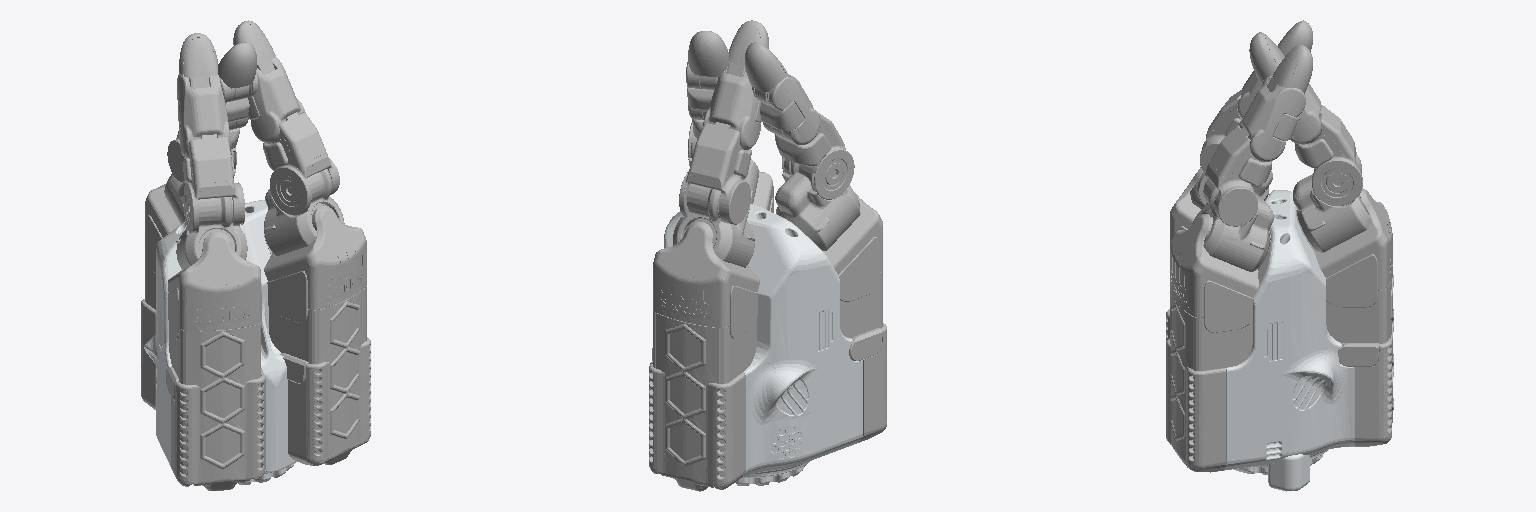
--- Render facts (derived) ---
Views: 3 orthographic renders of the robot side by side, from view 1: azimuth 30°, elevation 25°; view 2: azimuth 150°, elevation 25°; view 3: azimuth 270°, elevation 25°.
Model e3_r3_hand with 26 links and 25 joints (15 revolute, 3 prismatic, 7 fixed), rooted at world, posed all joints at 0.
Links seen in each view (by area): view 1: F2_base, F1_base, hand_base, F1_proximal, F2_proximal, F0_base, F1_J0_link, F2_middle, F1_middle, F2_J0_link, F2_distal, F0_distal (+4 smaller); view 2: hand_base, F0_base, F2_base, F0_proximal, F2_J0_link, F2_proximal, F0_J0_link, F2_middle, F0_middle, F1_distal, F2_distal, F0_distal (+2 smaller); view 3: hand_base, F1_base, F0_base, F1_proximal, F0_J0_link, F0_proximal, F1_middle, F1_J0_link, F1_distal, F2_proximal, F0_middle, F0_distal (+3 smaller).
Link boxes in pixels (left/top/right/bottom): F2_base: left=166, top=232, right=265, bottom=490; F1_base: left=264, top=205, right=370, bottom=465; hand_base: left=144, top=200, right=296, bottom=484; F1_proximal: left=263, top=112, right=339, bottom=215; F2_proximal: left=183, top=134, right=244, bottom=233; F0_base: left=141, top=183, right=180, bottom=409; F1_J0_link: left=264, top=169, right=344, bottom=256; F2_middle: left=177, top=74, right=231, bottom=157; F1_middle: left=248, top=56, right=305, bottom=143; F2_J0_link: left=176, top=197, right=247, bottom=270; F2_distal: left=179, top=33, right=217, bottom=88; F0_distal: left=218, top=42, right=256, bottom=100; hand_base: left=652, top=204, right=862, bottom=485; F0_base: left=649, top=222, right=759, bottom=491; F2_base: left=823, top=185, right=886, bottom=442; F0_proximal: left=679, top=122, right=751, bottom=224; F2_J0_link: left=775, top=161, right=859, bottom=250; F2_proximal: left=771, top=112, right=854, bottom=199; F0_J0_link: left=673, top=184, right=754, bottom=267; F2_middle: left=752, top=74, right=819, bottom=144; F0_middle: left=703, top=70, right=761, bottom=149; F1_distal: left=688, top=31, right=728, bottom=89; F2_distal: left=745, top=42, right=789, bottom=105; F0_distal: left=726, top=20, right=768, bottom=76; hand_base: left=1223, top=190, right=1354, bottom=491; F1_base: left=1166, top=214, right=1270, bottom=472; F0_base: left=1296, top=189, right=1393, bottom=446; F1_proximal: left=1197, top=125, right=1271, bottom=226; F0_J0_link: left=1293, top=154, right=1370, bottom=252; F0_proximal: left=1295, top=105, right=1362, bottom=205; F1_middle: left=1239, top=77, right=1305, bottom=161; F1_J0_link: left=1192, top=178, right=1273, bottom=271; F1_distal: left=1267, top=44, right=1312, bottom=93; F2_proximal: left=1200, top=90, right=1241, bottom=171; F0_middle: left=1262, top=75, right=1321, bottom=144; F0_distal: left=1249, top=32, right=1284, bottom=83.
Size in the robot's own frame: 0.1599 by 0.1653 by 0.3405 metres.
16 mesh visuals loaded from 6 distinct referenced files (6 Collada DAE).

URDF robot description (e3_r3_hand):
<?xml version="1.0" ?>
<!-- =================================================================================== -->
<!-- |    This document was autogenerated by xacro from ./dx_system/dx_launch/description/0x02000105.urdf.xacro | -->
<!-- |    EDITING THIS FILE BY HAND IS NOT RECOMMENDED                                 | -->
<!-- =================================================================================== -->
<!--
 Software License Agreement (BSD License)
 Copyright © 2024-2025 belongs to Shadow Robot Company Ltd.
 All rights reserved.
 Redistribution and use in source and binary forms, with or without modification,
 are permitted provided that the following conditions are met:
   1. Redistributions of source code must retain the above copyright notice,
      this list of conditions and the following disclaimer.
   2. Redistributions in binary form must reproduce the above copyright notice,
      this list of conditions and the following disclaimer in the documentation
      and/or other materials provided with the distribution.
   3. Neither the name of Shadow Robot Company Ltd nor the names of its contributors
      may be used to endorse or promote products derived from this software without
      specific prior written permission.
 This software is provided by Shadow Robot Company Ltd "as is" and any express
 or implied warranties, including, but not limited to, the implied warranties of
 merchantability and fitness for a particular purpose are disclaimed. In no event
 shall the copyright holder be liable for any direct, indirect, incidental, special,
 exemplary, or consequential damages (including, but not limited to, procurement of
 substitute goods or services; loss of use, data, or profits; or business interruption)
 however caused and on any theory of liability, whether in contract, strict liability,
 or tort (including negligence or otherwise) arising in any way out of the use of this
 software, even if advised of the possibility of such damage.
-->
<robot name="e3_r3_hand">

  <link name="world"/>
    <!-- Six virtual links (massless, no geometry) -->
  <link name="link_1">
    <inertial>
      <mass value="0.0"/>
      <inertia ixx="0" ixy="0" ixz="0" iyy="0" iyz="0" izz="0"/>
    </inertial>
  </link>
  <link name="link_2">
    <inertial>
      <mass value="0.0"/>
      <inertia ixx="0" ixy="0" ixz="0" iyy="0" iyz="0" izz="0"/>
    </inertial>
  </link>
  <link name="link_3">
    <inertial>
      <mass value="0.0"/>
      <inertia ixx="0" ixy="0" ixz="0" iyy="0" iyz="0" izz="0"/>
    </inertial>
  </link>
  <link name="link_4">
    <inertial>
      <mass value="0.0"/>
      <inertia ixx="0" ixy="0" ixz="0" iyy="0" iyz="0" izz="0"/>
    </inertial>
  </link>
  <link name="link_5">
    <inertial>
      <mass value="0.0"/>
      <inertia ixx="0" ixy="0" ixz="0" iyy="0" iyz="0" izz="0"/>
    </inertial>
  </link>

  <!-- Joints (alternating prismatic and revolute) -->
  <joint name="joint_1_prismatic_z" type="prismatic">
    <parent link="world"/>
    <child  link="link_1"/>
    <origin xyz="0 0 0" rpy="0 0 0"/>
    <axis xyz="0 0 1"/>
    <limit lower="-0.2" upper="0.2" effort="10" velocity="0.5"/>
  </joint>

  <joint name="joint_2_revolute_z" type="revolute">
    <parent link="link_1"/>
    <child  link="link_2"/>
    <origin xyz="0 0 0" rpy="0 0 0"/>
    <axis xyz="0 0 1"/>
    <limit lower="-3.14" upper="3.14" effort="10" velocity="1"/>
  </joint>

  <joint name="joint_3_prismatic_x" type="prismatic">
    <parent link="link_2"/>
    <child  link="link_3"/>
    <origin xyz="0 0 0" rpy="0 0 0"/>
    <axis xyz="1 0 0"/>
    <limit lower="0.0" upper="0.3" effort="10" velocity="0.5"/>
  </joint>

  <joint name="joint_4_revolute_y" type="revolute">
    <parent link="link_3"/>
    <child  link="link_4"/>
    <origin xyz="0 0 0" rpy="0 0 0"/>
    <axis xyz="0 1 0"/>
    <limit lower="-1.57" upper="1.57" effort="10" velocity="1"/>
  </joint>

  <joint name="joint_5_prismatic_x" type="prismatic">
    <parent link="link_4"/>
    <child  link="link_5"/>
    <origin xyz="0 0 0" rpy="0 0 0"/>
    <axis xyz="1 0 0"/>
    <limit lower="0.0" upper="0.2" effort="10" velocity="0.5"/>
  </joint>

  <joint name="joint_6_revolute_z" type="revolute">
    <parent link="link_5"/>
    <child  link="hand_base"/>
    <origin xyz="0 0 0" rpy="0 0 0"/>
    <axis xyz="0 0 1"/>
    <limit lower="-3.14" upper="3.14" effort="10" velocity="1"/>
  </joint>

  <link name="hand_base">
    <inertial>
      <origin rpy="0 0 0" xyz="0.00024269 0.0064896 0.05011689"/>
      <mass value="0.53506724"/>
      <inertia ixx="0.00235606" ixy="-0.00000318" ixz="0.00001251" iyy="0.00262644" iyz="-0.00010584" izz="0.00095084"/>
    </inertial>
    <visual>
      <origin rpy="0 0 0" xyz="0 0 0"/>
      <geometry>
        <mesh filename="meshes/Hand_Base.dae"/>
      </geometry>
      <material name="">
        <color rgba="0.898039215686275 0.917647058823529 0.929411764705882 1"/>
      </material>
    </visual>
    <collision>
      <origin rpy="0 0 0" xyz="0 0 0"/>
      <geometry>
        <mesh filename="meshes/collision/Hand_Base.stl"/>
      </geometry>
    </collision>
  </link>
  <gazebo reference="hand_base">
    <selfCollide>true</selfCollide>
  </gazebo>
  <!-- Create a virtual end effector link that will be useful for arm IK -->
  <link name="end_effector"/>
  <joint name="ee_fixed_joint" type="fixed">
    <parent link="hand_base"/>
    <child link="end_effector"/>
    <origin rpy="0.0 0.0 0.0" xyz="0.0 0.0 0.25"/>
  </joint>
  <joint name="world_joint_F0" type="fixed">
    <origin rpy="-1.5707 0 0" xyz="0 0.05 0.017"/>
    <parent link="hand_base"/>
    <child link="F0_base"/>
  </joint>
  <link name="F0_base">
    <inertial>
      <origin rpy="0 0 0" xyz="0.00004454 0.00736569 0.08093736"/>
      <mass value="0.89937782"/>
      <inertia ixx="0.00186283" ixy="-0.00000176" ixz="-0.00000296" iyy="0.00181365" iyz="0.00004212" izz="0.00058221"/>
    </inertial>
    <visual>
      <origin rpy="1.5707 0 0" xyz="0 0 0"/>
      <geometry>
        <mesh filename="meshes/F0_base.dae"/>
      </geometry>
      <material name="">
        <color rgba="0.75294 0.75294 0.75294 1"/>
      </material>
    </visual>
    <collision>
      <origin rpy="1.5707 0 0" xyz="0 0 0"/>
      <geometry>
        <mesh filename="meshes/collision/F0_base.stl"/>
      </geometry>
    </collision>
  </link>
  <gazebo reference="F0_base">
    <selfCollide>true</selfCollide>
  </gazebo>
  <link name="F0_J0_link">
    <inertial>
      <origin rpy="0 0 0" xyz="-0.00017293 -0.01537184 0.00956679"/>
      <mass value="0.13077995"/>
      <inertia ixx="0.00005895" ixy="0.00000007" ixz="0.00000064" iyy="0.00004702" iyz="-0.00000971" izz="0.00003911"/>
    </inertial>
    <visual>
      <origin rpy="0 0 0" xyz="0 0.077 0"/>
      <geometry>
        <mesh filename="meshes/F0_J0_link.dae"/>
      </geometry>
      <material name="">
        <color rgba="0.75294 0.75294 0.75294 1"/>
      </material>
    </visual>
    <collision>
      <origin rpy="0 0 0" xyz="0 0.077 0"/>
      <geometry>
        <mesh filename="meshes/collision/F0_J0_link.stl"/>
      </geometry>
    </collision>
  </link>
  <gazebo reference="F0_J0_link">
    <selfCollide>true</selfCollide>
  </gazebo>
  <joint name="F0_J0" type="revolute">
    <origin rpy="2.0944 0 0" xyz="0 -0.14073 -0.051327"/>
    <parent link="F0_base"/>
    <child link="F0_J0_link"/>
    <axis xyz="0 -1 0"/>
    <limit effort="1.5" lower="-0.8727" upper="0.8727" velocity="3.1415"/>
    <dynamics friction="0.001"/>
  </joint>
  <link name="F0_proximal">
    <inertial>
      <origin rpy="0 0 0" xyz="-0.00020256 0.0024322 0.02375091"/>
      <mass value="0.09614332"/>
      <inertia ixx="0.00004332" ixy="-0.00000017" ixz="-0.00000349" iyy="0.00004756" iyz="0.00000055" izz="0.00002008"/>
    </inertial>
    <visual>
      <origin rpy="0 0 0" xyz="0 0 0"/>
      <geometry>
        <mesh filename="meshes/F0_proximal.dae"/>
      </geometry>
      <material name="">
        <color rgba="0.75294 0.75294 0.75294 1"/>
      </material>
    </visual>
    <collision>
      <origin rpy="0 0 0" xyz="0 0 0"/>
      <geometry>
        <mesh filename="meshes/collision/F0_proximal.stl"/>
      </geometry>
    </collision>
  </link>
  <gazebo reference="F0_proximal">
    <selfCollide>true</selfCollide>
  </gazebo>
  <joint name="F0_J1" type="revolute">
    <origin rpy="0 0 0" xyz="0 0.0765883365730207 0.0299999999999999"/>
    <parent link="F0_J0_link"/>
    <child link="F0_proximal"/>
    <axis xyz="1 0 0"/>
    <limit effort="1.2" lower="-1.396" upper="0.785" velocity="3.1415"/>
    <dynamics friction="0.001"/>
  </joint>
  <link name="F0_middle">
    <inertial>
      <origin rpy="0 0 0" xyz="-0.00026744 -0.00004338 0.01669764"/>
      <mass value="0.05585897"/>
      <inertia ixx="0.00001447" ixy="-0.00000005" ixz="-0.00000004" iyy="0.00001686" iyz="-0.00000007" izz="0.00000973"/>
    </inertial>
    <visual>
      <origin rpy="0 0 0" xyz="0 0 0"/>
      <geometry>
        <mesh filename="meshes/F0_middle.dae"/>
      </geometry>
      <material name="">
        <color rgba="0.75294 0.75294 0.75294 1"/>
      </material>
    </visual>
    <collision>
      <origin rpy="0 0 0" xyz="0 0 0"/>
      <geometry>
        <mesh filename="meshes/collision/F0_middle.stl"/>
      </geometry>
    </collision>
  </link>
  <gazebo reference="F0_middle">
    <selfCollide>true</selfCollide>
  </gazebo>
  <joint name="F0_J2" type="revolute">
    <origin rpy="0 0 0" xyz="0 0 0.05"/>
    <parent link="F0_proximal"/>
    <child link="F0_middle"/>
    <axis xyz="1 0 0"/>
    <limit effort="0.7" lower="0" upper="1.396" velocity="3.1415"/>
    <dynamics friction="0.001"/>
  </joint>
  <link name="F0_distal">
    <inertial>
      <origin rpy="0 0 0" xyz="0.00084325 0.00164346 0.01482169"/>
      <mass value="0.02766365"/>
      <inertia ixx="0.0000051" ixy="0" ixz="0.00000028" iyy="0.00000506" iyz="-0.00000034" izz="0.00000198"/>
    </inertial>
    <visual>
      <origin rpy="0 0 0" xyz="0 0 0"/>
      <geometry>
        <mesh filename="meshes/F0_distal.dae"/>
      </geometry>
      <material name="">
        <color rgba="0.75294 0.75294 0.75294 1"/>
      </material>
    </visual>
    <collision>
      <origin rpy="0 0 0" xyz="0 0 0"/>
      <geometry>
        <mesh filename="meshes/collision/F0_distal.stl"/>
      </geometry>
    </collision>
  </link>
  <gazebo reference="F0_distal">
    <selfCollide>true</selfCollide>
  </gazebo>
  <joint name="F0_J3" type="revolute">
    <origin rpy="0 0 0" xyz="0 0 0.035"/>
    <parent link="F0_middle"/>
    <child link="F0_distal"/>
    <axis xyz="1 0 0"/>
    <limit effort="0.35" lower="-0.523" upper="1.485" velocity="3.1415"/>
    <dynamics friction="0.001"/>
  </joint>
  <link name="F0_tip"/>
  <joint name="F0_distal_tip" type="fixed">
    <parent link="F0_distal"/>
    <child link="F0_tip"/>
    <origin rpy="0 0 0" xyz="0 0.003 0.033"/>
  </joint>
  <!-- These transmissions are wrongly configured and fail to be loaded by the real robot -->
  <!-- We still need to define them in order to be able to launch the robot in simulation -->
  <transmission name="trans_F0_J0">
    <type>UnusedTransmission</type>
    <joint name="F0_J0">
      <hardwareInterface>hardware_interface/EffortJointInterface</hardwareInterface>
    </joint>
    <actuator name="F0_J0_motor">
      <!-- <hardwareInterface>hardware_interface/EffortJointInterface</hardwareInterface> -->
      <mechanicalReduction>1</mechanicalReduction>
    </actuator>
  </transmission>
  <transmission name="trans_F0_J1">
    <type>UnusedTransmission</type>
    <joint name="F0_J1">
      <hardwareInterface>hardware_interface/EffortJointInterface</hardwareInterface>
    </joint>
    <actuator name="F0_J1_motor">
      <!-- <hardwareInterface>hardware_interface/EffortJointInterface</hardwareInterface> -->
      <mechanicalReduction>1</mechanicalReduction>
    </actuator>
  </transmission>
  <transmission name="trans_F0_J2">
    <type>UnusedTransmission</type>
    <joint name="F0_J2">
      <hardwareInterface>hardware_interface/EffortJointInterface</hardwareInterface>
    </joint>
    <actuator name="F0_J2_motor">
      <!-- <hardwareInterface>hardware_interface/EffortJointInterface</hardwareInterface> -->
      <mechanicalReduction>1</mechanicalReduction>
    </actuator>
  </transmission>
  <transmission name="trans_F0_J3">
    <type>UnusedTransmission</type>
    <joint name="F0_J3">
      <hardwareInterface>hardware_interface/EffortJointInterface</hardwareInterface>
    </joint>
    <actuator name="F0_J3_motor">
      <!-- <hardwareInterface>hardware_interface/EffortJointInterface</hardwareInterface> -->
      <mechanicalReduction>1</mechanicalReduction>
    </actuator>
  </transmission>
  <joint name="world_joint_F1" type="fixed">
    <origin rpy="-1.5707 0 -2.8159" xyz="0.0384 -0.0287 0.017"/>
    <parent link="hand_base"/>
    <child link="F1_base"/>
  </joint>
  <link name="F1_base">
    <inertial>
      <origin rpy="0 0 0" xyz="0.00004454 0.00736569 0.08093736"/>
      <mass value="0.89937782"/>
      <inertia ixx="0.00186283" ixy="-0.00000176" ixz="-0.00000296" iyy="0.00181365" iyz="0.00004212" izz="0.00058221"/>
    </inertial>
    <visual>
      <origin rpy="1.5707 0 0" xyz="0 0 0"/>
      <geometry>
        <mesh filename="meshes/F0_base.dae"/>
      </geometry>
      <material name="">
        <color rgba="0.75294 0.75294 0.75294 1"/>
      </material>
    </visual>
    <collision>
      <origin rpy="1.5707 0 0" xyz="0 0 0"/>
      <geometry>
        <mesh filename="meshes/collision/F0_base.stl"/>
      </geometry>
    </collision>
  </link>
  <gazebo reference="F1_base">
    <selfCollide>true</selfCollide>
  </gazebo>
  <link name="F1_J0_link">
    <inertial>
      <origin rpy="0 0 0" xyz="-0.00017293 -0.01537184 0.00956679"/>
      <mass value="0.13077995"/>
      <inertia ixx="0.00005895" ixy="0.00000007" ixz="0.00000064" iyy="0.00004702" iyz="-0.00000971" izz="0.00003911"/>
    </inertial>
    <visual>
      <origin rpy="0 0 0" xyz="0 0.077 0"/>
      <geometry>
        <mesh filename="meshes/F0_J0_link.dae"/>
      </geometry>
      <material name="">
        <color rgba="0.75294 0.75294 0.75294 1"/>
      </material>
    </visual>
    <collision>
      <origin rpy="0 0 0" xyz="0 0.077 0"/>
      <geometry>
        <mesh filename="meshes/collision/F0_J0_link.stl"/>
      </geometry>
    </collision>
  </link>
  <gazebo reference="F1_J0_link">
    <selfCollide>true</selfCollide>
  </gazebo>
  <joint name="F1_J0" type="revolute">
    <origin rpy="2.0944 0 0" xyz="0 -0.14073 -0.051327"/>
    <parent link="F1_base"/>
    <child link="F1_J0_link"/>
    <axis xyz="0 -1 0"/>
    <limit effort="1.5" lower="-0.8727" upper="0.8727" velocity="3.1415"/>
    <dynamics friction="0.001"/>
  </joint>
  <link name="F1_proximal">
    <inertial>
      <origin rpy="0 0 0" xyz="-0.00020256 0.0024322 0.02375091"/>
      <mass value="0.09614332"/>
      <inertia ixx="0.00004332" ixy="-0.00000017" ixz="-0.00000349" iyy="0.00004756" iyz="0.00000055" izz="0.00002008"/>
    </inertial>
    <visual>
      <origin rpy="0 0 0" xyz="0 0 0"/>
      <geometry>
        <mesh filename="meshes/F0_proximal.dae"/>
      </geometry>
      <material name="">
        <color rgba="0.75294 0.75294 0.75294 1"/>
      </material>
    </visual>
    <collision>
      <origin rpy="0 0 0" xyz="0 0 0"/>
      <geometry>
        <mesh filename="meshes/collision/F0_proximal.stl"/>
      </geometry>
    </collision>
  </link>
  <gazebo reference="F1_proximal">
    <selfCollide>true</selfCollide>
  </gazebo>
  <joint name="F1_J1" type="revolute">
    <origin rpy="0 0 0" xyz="0 0.0765883365730207 0.0299999999999999"/>
    <parent link="F1_J0_link"/>
    <child link="F1_proximal"/>
    <axis xyz="1 0 0"/>
    <limit effort="1.2" lower="-1.396" upper="0.785" velocity="3.1415"/>
    <dynamics friction="0.001"/>
  </joint>
  <link name="F1_middle">
    <inertial>
      <origin rpy="0 0 0" xyz="-0.00026744 -0.00004338 0.01669764"/>
      <mass value="0.05585897"/>
      <inertia ixx="0.00001447" ixy="-0.00000005" ixz="-0.00000004" iyy="0.00001686" iyz="-0.00000007" izz="0.00000973"/>
    </inertial>
    <visual>
      <origin rpy="0 0 0" xyz="0 0 0"/>
      <geometry>
        <mesh filename="meshes/F0_middle.dae"/>
      </geometry>
      <material name="">
        <color rgba="0.75294 0.75294 0.75294 1"/>
      </material>
    </visual>
    <collision>
      <origin rpy="0 0 0" xyz="0 0 0"/>
      <geometry>
        <mesh filename="meshes/collision/F0_middle.stl"/>
      </geometry>
    </collision>
  </link>
  <gazebo reference="F1_middle">
    <selfCollide>true</selfCollide>
  </gazebo>
  <joint name="F1_J2" type="revolute">
    <origin rpy="0 0 0" xyz="0 0 0.05"/>
    <parent link="F1_proximal"/>
    <child link="F1_middle"/>
    <axis xyz="1 0 0"/>
    <limit effort="0.7" lower="0" upper="1.396" velocity="3.1415"/>
    <dynamics friction="0.001"/>
  </joint>
  <link name="F1_distal">
    <inertial>
      <origin rpy="0 0 0" xyz="0.00084325 0.00164346 0.01482169"/>
      <mass value="0.02766365"/>
      <inertia ixx="0.0000051" ixy="0" ixz="0.00000028" iyy="0.00000506" iyz="-0.00000034" izz="0.00000198"/>
    </inertial>
    <visual>
      <origin rpy="0 0 0" xyz="0 0 0"/>
      <geometry>
        <mesh filename="meshes/F0_distal.dae"/>
      </geometry>
      <material name="">
        <color rgba="0.75294 0.75294 0.75294 1"/>
      </material>
    </visual>
    <collision>
      <origin rpy="0 0 0" xyz="0 0 0"/>
      <geometry>
        <mesh filename="meshes/collision/F0_distal.stl"/>
      </geometry>
    </collision>
  </link>
  <gazebo reference="F1_distal">
    <selfCollide>true</selfCollide>
  </gazebo>
  <joint name="F1_J3" type="revolute">
    <origin rpy="0 0 0" xyz="0 0 0.035"/>
    <parent link="F1_middle"/>
    <child link="F1_distal"/>
    <axis xyz="1 0 0"/>
    <limit effort="0.35" lower="-0.523" upper="1.485" velocity="3.1415"/>
    <dynamics friction="0.001"/>
  </joint>
  <link name="F1_tip"/>
  <joint name="F1_distal_tip" type="fixed">
    <parent link="F1_distal"/>
    <child link="F1_tip"/>
    <origin rpy="0 0 0" xyz="0 0.003 0.033"/>
  </joint>
  <!-- These transmissions are wrongly configured and fail to be loaded by the real robot -->
  <!-- We still need to define them in order to be able to launch the robot in simulation -->
  <transmission name="trans_F1_J0">
    <type>UnusedTransmission</type>
    <joint name="F1_J0">
      <hardwareInterface>hardware_interface/EffortJointInterface</hardwareInterface>
    </joint>
    <actuator name="F1_J0_motor">
      <!-- <hardwareInterface>hardware_interface/EffortJointInterface</hardwareInterface> -->
      <mechanicalReduction>1</mechanicalReduction>
    </actuator>
  </transmission>
  <transmission name="trans_F1_J1">
    <type>UnusedTransmission</type>
    <joint name="F1_J1">
      <hardwareInterface>hardware_interface/EffortJointInterface</hardwareInterface>
    </joint>
    <actuator name="F1_J1_motor">
      <!-- <hardwareInterface>hardware_interface/EffortJointInterface</hardwareInterface> -->
      <mechanicalReduction>1</mechanicalReduction>
    </actuator>
  </transmission>
  <transmission name="trans_F1_J2">
    <type>UnusedTransmission</type>
    <joint name="F1_J2">
      <hardwareInterface>hardware_interface/EffortJointInterface</hardwareInterface>
    </joint>
    <actuator name="F1_J2_motor">
      <!-- <hardwareInterface>hardware_interface/EffortJointInterface</hardwareInterface> -->
      <mechanicalReduction>1</mechanicalReduction>
    </actuator>
  </transmission>
  <transmission name="trans_F1_J3">
    <type>UnusedTransmission</type>
    <joint name="F1_J3">
      <hardwareInterface>hardware_interface/EffortJointInterface</hardwareInterface>
    </joint>
    <actuator name="F1_J3_motor">
      <!-- <hardwareInterface>hardware_interface/EffortJointInterface</hardwareInterface> -->
      <mechanicalReduction>1</mechanicalReduction>
    </actuator>
  </transmission>
  <joint name="world_joint_F2" type="fixed">
    <origin rpy="-1.5707 0 2.8159" xyz="-0.0384 -0.02870 0.017"/>
    <parent link="hand_base"/>
    <child link="F2_base"/>
  </joint>
  <link name="F2_base">
    <inertial>
      <origin rpy="0 0 0" xyz="0.00004454 0.00736569 0.08093736"/>
      <mass value="0.89937782"/>
      <inertia ixx="0.00186283" ixy="-0.00000176" ixz="-0.00000296" iyy="0.00181365" iyz="0.00004212" izz="0.00058221"/>
    </inertial>
    <visual>
      <origin rpy="1.5707 0 0" xyz="0 0 0"/>
      <geometry>
        <mesh filename="meshes/F0_base.dae"/>
      </geometry>
      <material name="">
        <color rgba="0.75294 0.75294 0.75294 1"/>
      </material>
    </visual>
    <collision>
      <origin rpy="1.5707 0 0" xyz="0 0 0"/>
      <geometry>
        <mesh filename="meshes/collision/F0_base.stl"/>
      </geometry>
    </collision>
  </link>
  <gazebo reference="F2_base">
    <selfCollide>true</selfCollide>
  </gazebo>
  <link name="F2_J0_link">
    <inertial>
      <origin rpy="0 0 0" xyz="-0.00017293 -0.01537184 0.00956679"/>
      <mass value="0.13077995"/>
      <inertia ixx="0.00005895" ixy="0.00000007" ixz="0.00000064" iyy="0.00004702" iyz="-0.00000971" izz="0.00003911"/>
    </inertial>
    <visual>
      <origin rpy="0 0 0" xyz="0 0.077 0"/>
      <geometry>
        <mesh filename="meshes/F0_J0_link.dae"/>
      </geometry>
      <material name="">
        <color rgba="0.75294 0.75294 0.75294 1"/>
      </material>
    </visual>
    <collision>
      <origin rpy="0 0 0" xyz="0 0.077 0"/>
      <geometry>
        <mesh filename="meshes/collision/F0_J0_link.stl"/>
      </geometry>
    </collision>
  </link>
  <gazebo reference="F2_J0_link">
    <selfCollide>true</selfCollide>
  </gazebo>
  <joint name="F2_J0" type="revolute">
    <origin rpy="2.0944 0 0" xyz="0 -0.14073 -0.051327"/>
    <parent link="F2_base"/>
    <child link="F2_J0_link"/>
    <axis xyz="0 -1 0"/>
    <limit effort="1.5" lower="-0.8727" upper="0.8727" velocity="3.1415"/>
    <dynamics friction="0.001"/>
  </joint>
  <link name="F2_proximal">
    <inertial>
      <origin rpy="0 0 0" xyz="-0.00020256 0.0024322 0.02375091"/>
      <mass value="0.09614332"/>
      <inertia ixx="0.00004332" ixy="-0.00000017" ixz="-0.00000349" iyy="0.00004756" iyz="0.00000055" izz="0.00002008"/>
    </inertial>
    <visual>
      <origin rpy="0 0 0" xyz="0 0 0"/>
      <geometry>
        <mesh filename="meshes/F0_proximal.dae"/>
      </geometry>
      <material name="">
        <color rgba="0.75294 0.75294 0.75294 1"/>
      </material>
    </visual>
    <collision>
      <origin rpy="0 0 0" xyz="0 0 0"/>
      <geometry>
        <mesh filename="meshes/collision/F0_proximal.stl"/>
      </geometry>
    </collision>
  </link>
  <gazebo reference="F2_proximal">
    <selfCollide>true</selfCollide>
  </gazebo>
  <joint name="F2_J1" type="revolute">
    <origin rpy="0 0 0" xyz="0 0.0765883365730207 0.0299999999999999"/>
    <parent link="F2_J0_link"/>
    <child link="F2_proximal"/>
    <axis xyz="1 0 0"/>
    <limit effort="1.2" lower="-1.396" upper="0.785" velocity="3.1415"/>
    <dynamics friction="0.001"/>
  </joint>
  <link name="F2_middle">
    <inertial>
      <origin rpy="0 0 0" xyz="-0.00026744 -0.00004338 0.01669764"/>
      <mass value="0.05585897"/>
      <inertia ixx="0.00001447" ixy="-0.00000005" ixz="-0.00000004" iyy="0.00001686" iyz="-0.00000007" izz="0.00000973"/>
    </inertial>
    <visual>
      <origin rpy="0 0 0" xyz="0 0 0"/>
      <geometry>
        <mesh filename="meshes/F0_middle.dae"/>
      </geometry>
      <material name="">
        <color rgba="0.75294 0.75294 0.75294 1"/>
      </material>
    </visual>
    <collision>
      <origin rpy="0 0 0" xyz="0 0 0"/>
      <geometry>
        <mesh filename="meshes/collision/F0_middle.stl"/>
      </geometry>
    </collision>
  </link>
  <gazebo reference="F2_middle">
    <selfCollide>true</selfCollide>
  </gazebo>
  <joint name="F2_J2" type="revolute">
    <origin rpy="0 0 0" xyz="0 0 0.05"/>
    <parent link="F2_proximal"/>
    <child link="F2_middle"/>
    <axis xyz="1 0 0"/>
    <limit effort="0.7" lower="0" upper="1.396" velocity="3.1415"/>
    <dynamics friction="0.001"/>
  </joint>
  <link name="F2_distal">
    <inertial>
      <origin rpy="0 0 0" xyz="0.00084325 0.00164346 0.01482169"/>
      <mass value="0.02766365"/>
      <inertia ixx="0.0000051" ixy="0" ixz="0.00000028" iyy="0.00000506" iyz="-0.00000034" izz="0.00000198"/>
    </inertial>
    <visual>
      <origin rpy="0 0 0" xyz="0 0 0"/>
      <geometry>
        <mesh filename="meshes/F0_distal.dae"/>
      </geometry>
      <material name="">
        <color rgba="0.75294 0.75294 0.75294 1"/>
      </material>
    </visual>
    <collision>
      <origin rpy="0 0 0" xyz="0 0 0"/>
      <geometry>
        <mesh filename="meshes/collision/F0_distal.stl"/>
      </geometry>
    </collision>
  </link>
  <gazebo reference="F2_distal">
    <selfCollide>true</selfCollide>
  </gazebo>
  <joint name="F2_J3" type="revolute">
    <origin rpy="0 0 0" xyz="0 0 0.035"/>
    <parent link="F2_middle"/>
    <child link="F2_distal"/>
    <axis xyz="1 0 0"/>
    <limit effort="0.35" lower="-0.523" upper="1.485" velocity="3.1415"/>
    <dynamics friction="0.001"/>
  </joint>
  <link name="F2_tip"/>
  <joint name="F2_distal_tip" type="fixed">
    <parent link="F2_distal"/>
    <child link="F2_tip"/>
    <origin rpy="0 0 0" xyz="0 0.003 0.033"/>
  </joint>
  <!-- These transmissions are wrongly configured and fail to be loaded by the real robot -->
  <!-- We still need to define them in order to be able to launch the robot in simulation -->
  <transmission name="trans_F2_J0">
    <type>UnusedTransmission</type>
    <joint name="F2_J0">
      <hardwareInterface>hardware_interface/EffortJointInterface</hardwareInterface>
    </joint>
    <actuator name="F2_J0_motor">
      <!-- <hardwareInterface>hardware_interface/EffortJointInterface</hardwareInterface> -->
      <mechanicalReduction>1</mechanicalReduction>
    </actuator>
  </transmission>
  <transmission name="trans_F2_J1">
    <type>UnusedTransmission</type>
    <joint name="F2_J1">
      <hardwareInterface>hardware_interface/EffortJointInterface</hardwareInterface>
    </joint>
    <actuator name="F2_J1_motor">
      <!-- <hardwareInterface>hardware_interface/EffortJointInterface</hardwareInterface> -->
      <mechanicalReduction>1</mechanicalReduction>
    </actuator>
  </transmission>
  <transmission name="trans_F2_J2">
    <type>UnusedTransmission</type>
    <joint name="F2_J2">
      <hardwareInterface>hardware_interface/EffortJointInterface</hardwareInterface>
    </joint>
    <actuator name="F2_J2_motor">
      <!-- <hardwareInterface>hardware_interface/EffortJointInterface</hardwareInterface> -->
      <mechanicalReduction>1</mechanicalReduction>
    </actuator>
  </transmission>
  <transmission name="trans_F2_J3">
    <type>UnusedTransmission</type>
    <joint name="F2_J3">
      <hardwareInterface>hardware_interface/EffortJointInterface</hardwareInterface>
    </joint>
    <actuator name="F2_J3_motor">
      <!-- <hardwareInterface>hardware_interface/EffortJointInterface</hardwareInterface> -->
      <mechanicalReduction>1</mechanicalReduction>
    </actuator>
  </transmission>
  <gazebo>
    <plugin filename="libgazebo_ros_control.so" name="gazebo_ros_control">
      <!--robotSimType>gazebo_ros_control/DefaultRobotHWSim</robotSimType-->
      <robotNamespace>hand_</robotNamespace>
      <robotParam>robot_description</robotParam>
    </plugin>
  </gazebo>
</robot>
